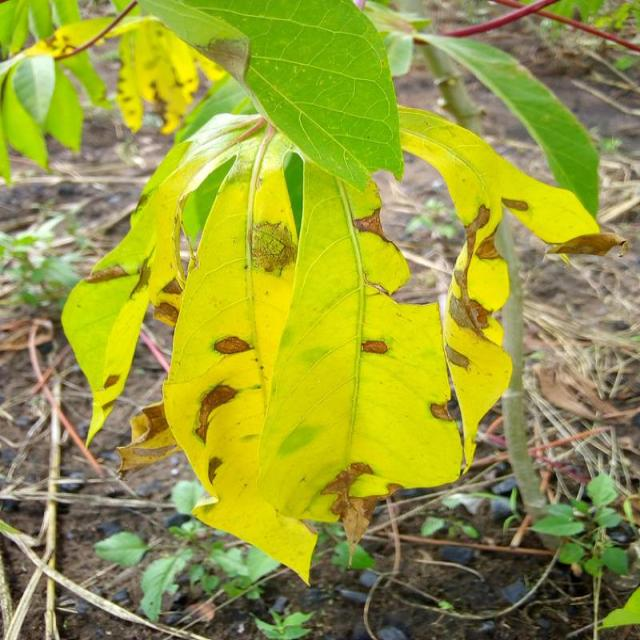cassava leaf: (55, 2, 610, 587), (135, 0, 406, 191)
